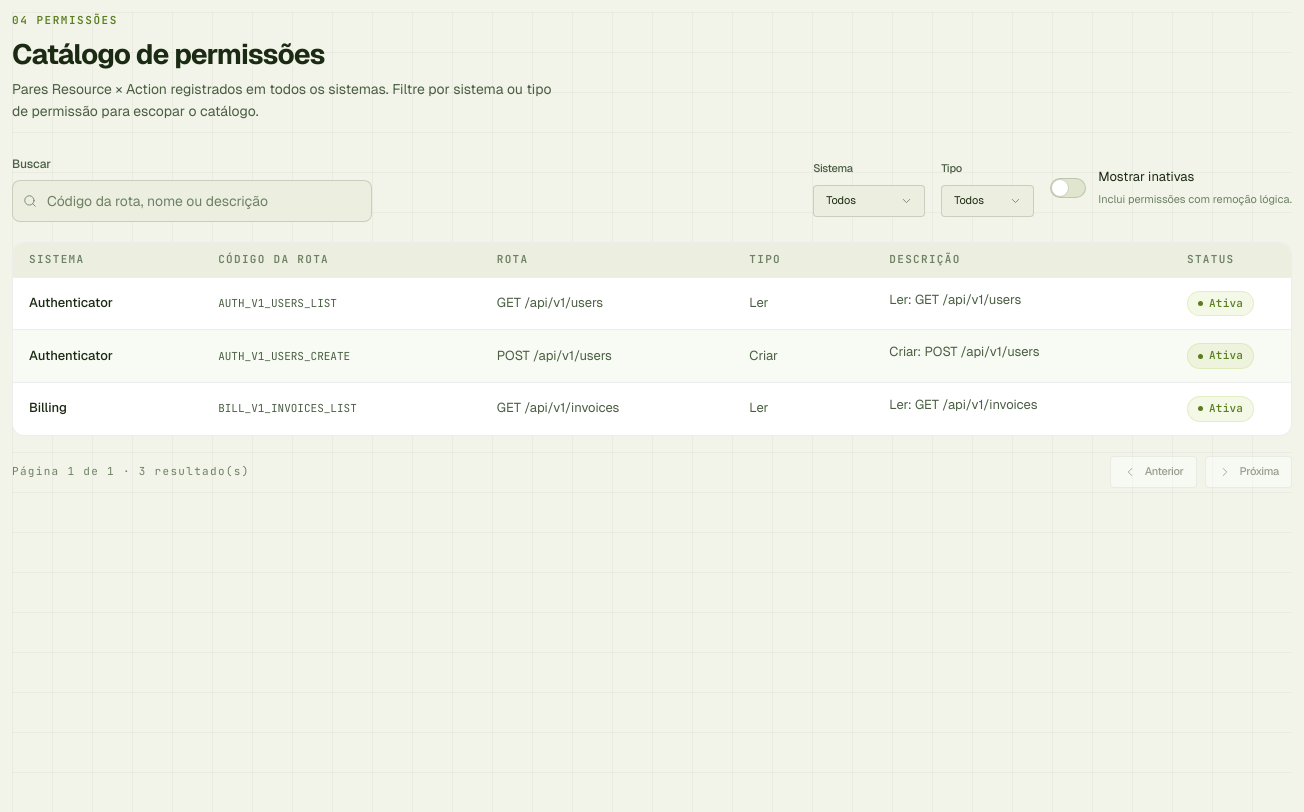
Scenario: PermissionsListShellPage — render inicial › renderiza badge "Inativa" para permissões soft-deletadas quando includeDeleted=true
Click the switch with test id "permissions-include-deleted". click: {"x": 1171, "y": 188}
box: [1050, 166, 1292, 210]
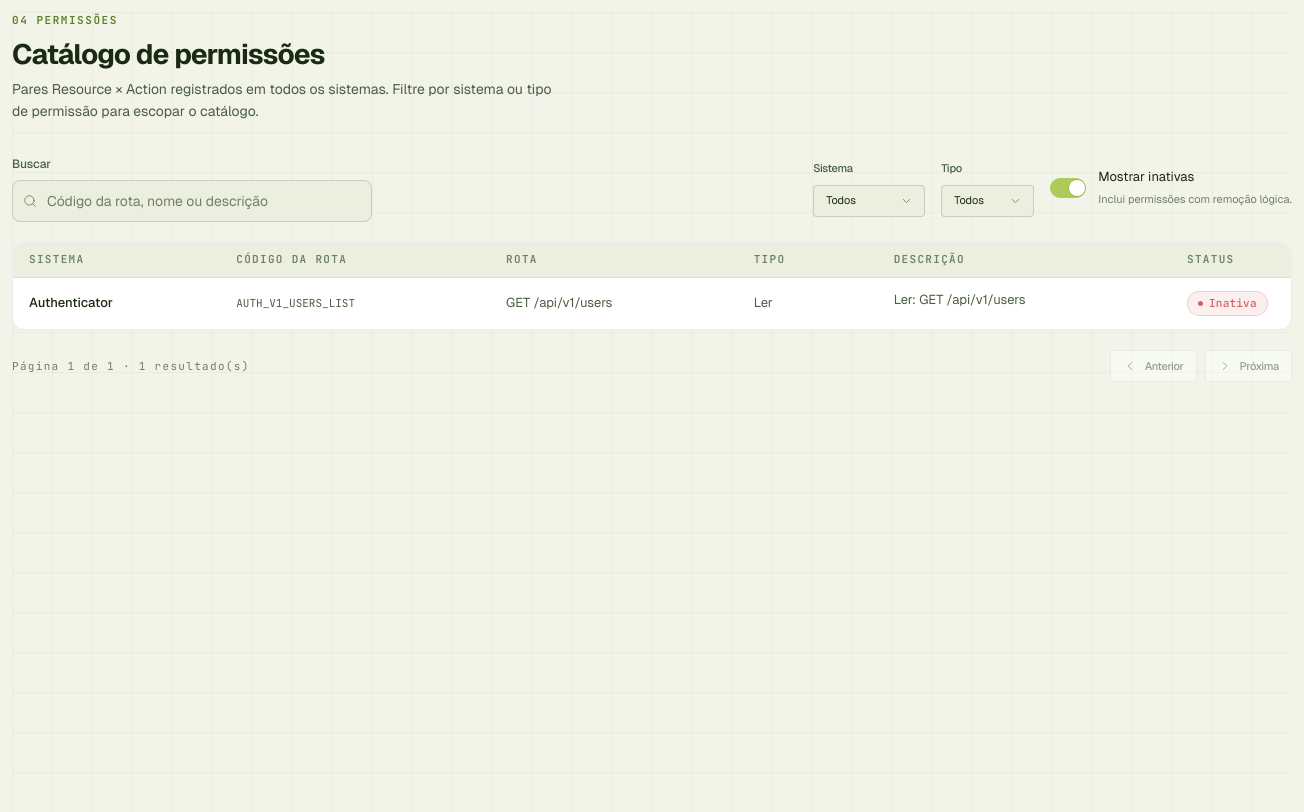
Expected: the text "Inativa" is shown, [1187, 291, 1268, 316]
